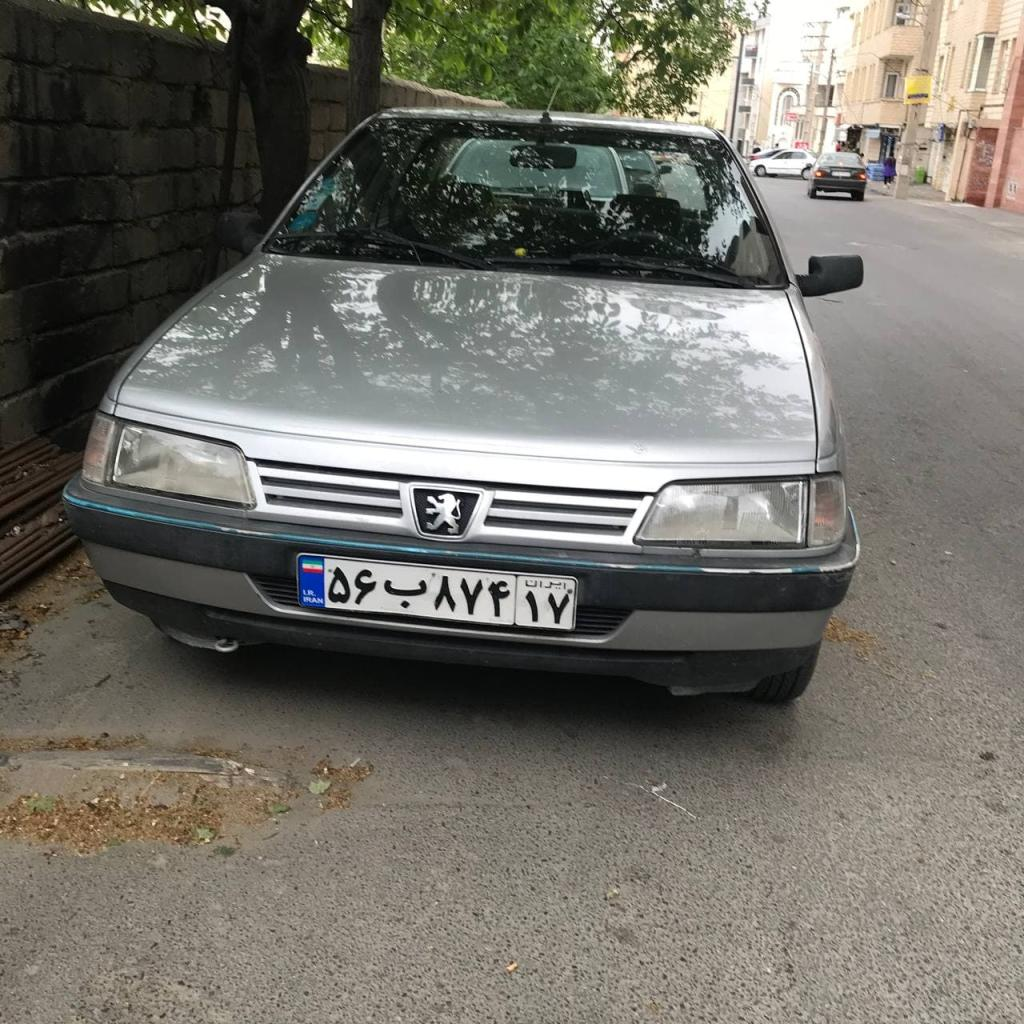Plates: (299, 556, 575, 629)
